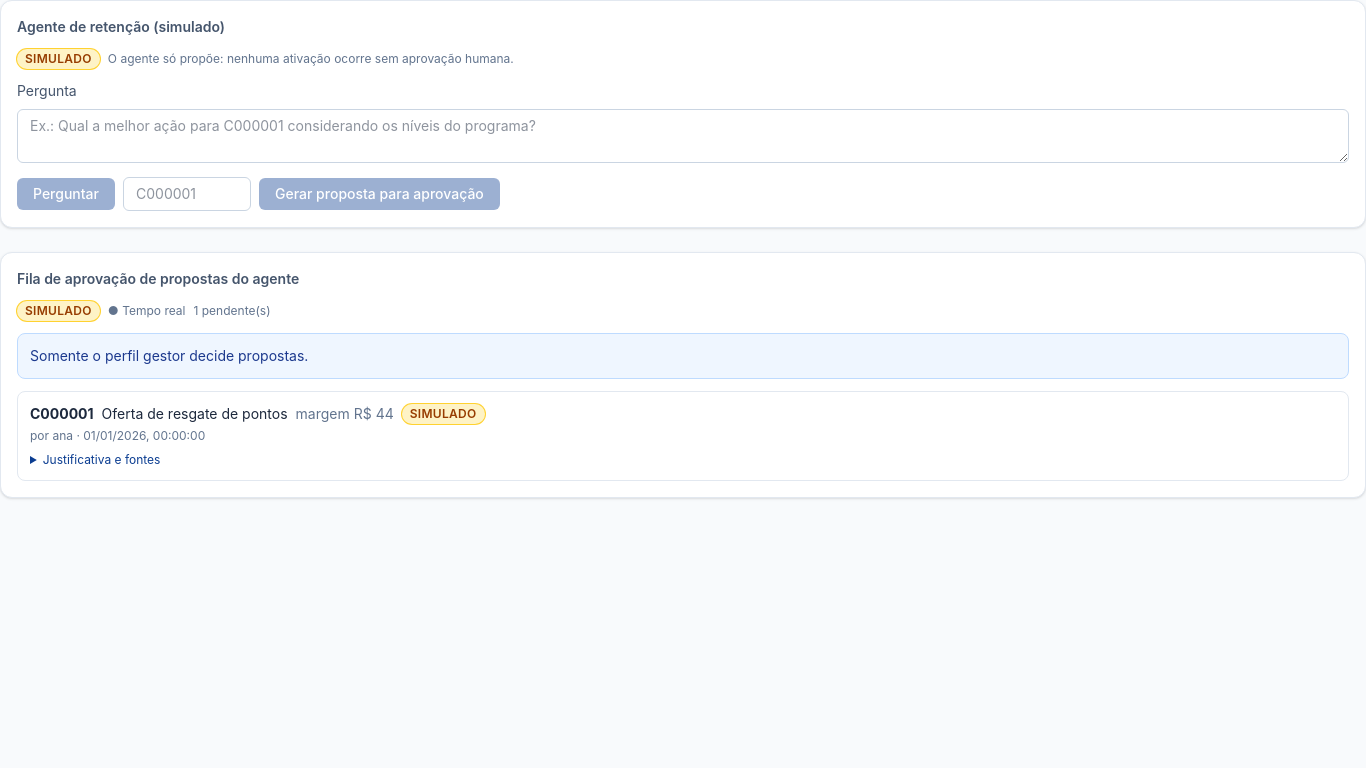
Test case: Painel do agente › streams the answer with simulated badge, sources and guardrail status
Step 1. Type "Qual a melhor acao para C000001?" into the text box labelled "Pergunta" → (683, 136), box 17,109 -> 1349,163
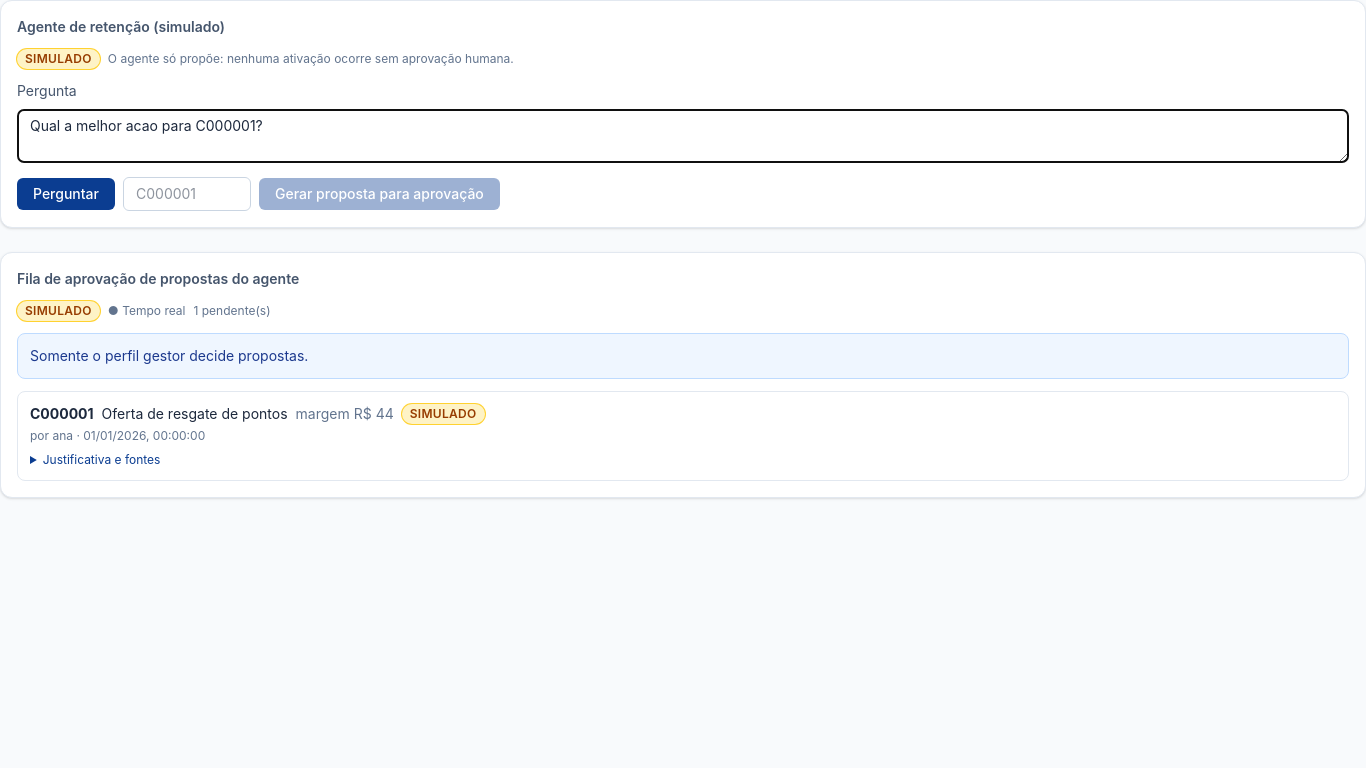
Step 2. Click the button "Perguntar" → (66, 194), box 17,178 -> 115,210
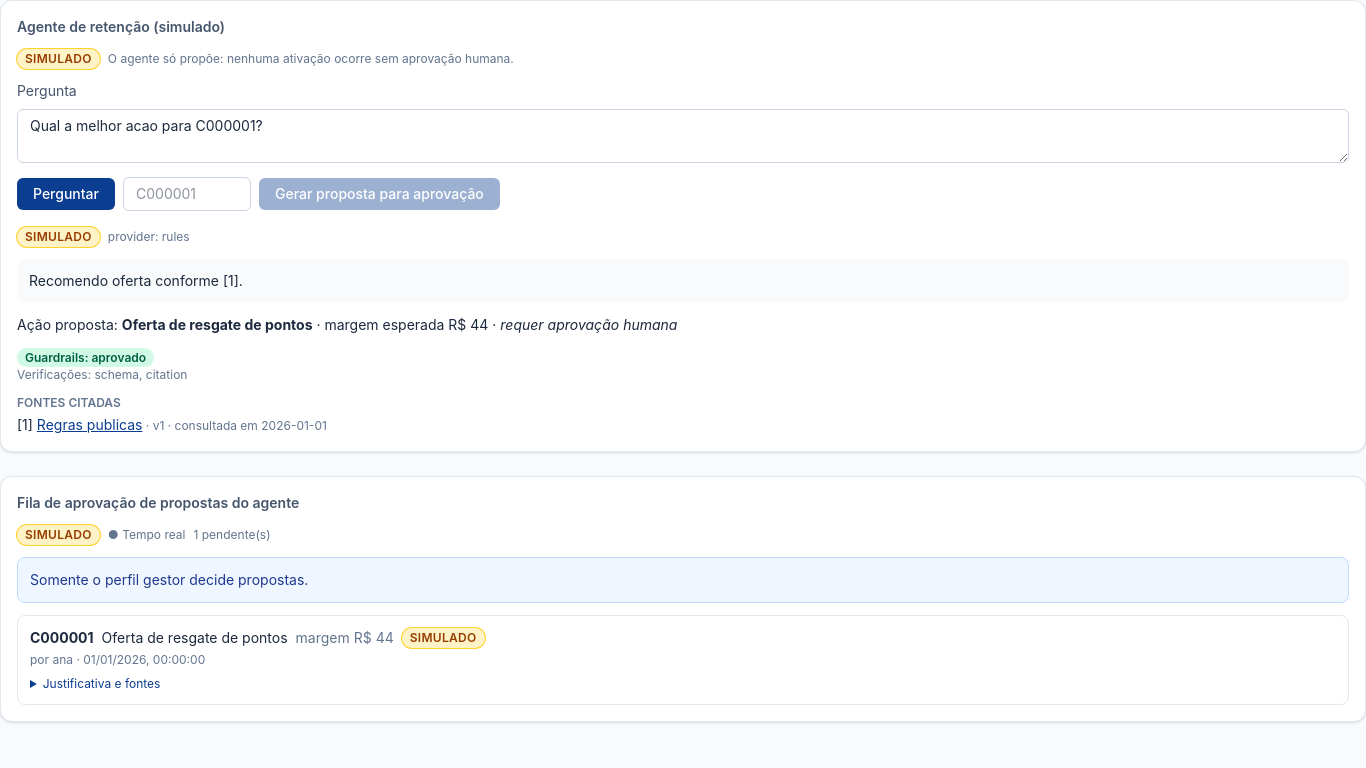
Expected: the text with test id "agent-answer" reads "Recomendo oferta conforme [1].", 29,272 -> 243,289
Expected: the element with test id "guardrails" shows "Guardrails: aprovado", 25,350 -> 146,365
Expected: the element with test id "proposed-action" shows "requer aprovação humana", 500,316 -> 677,333
